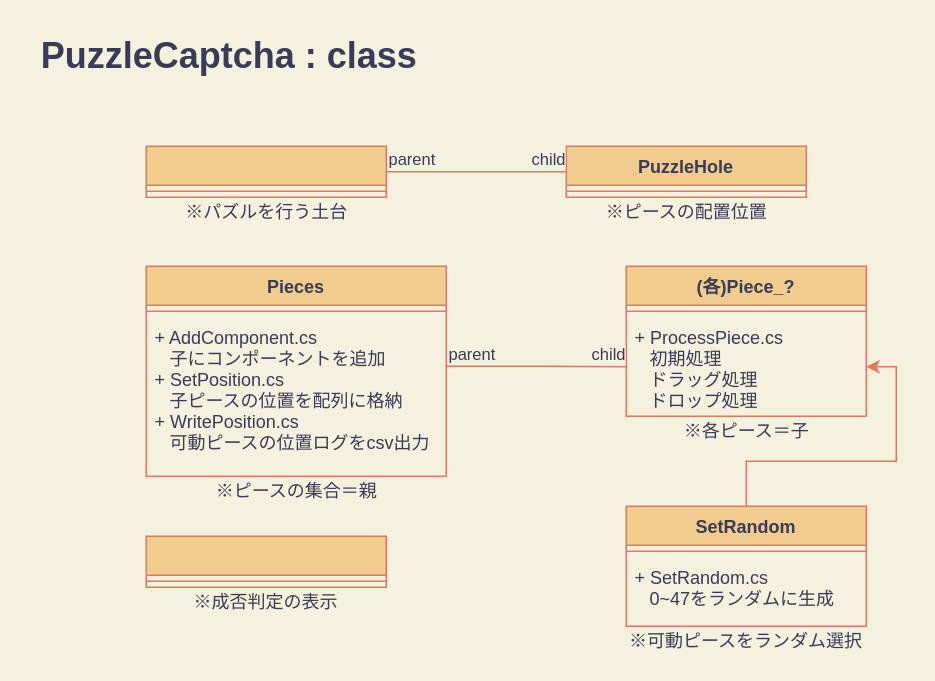
Some shapes in this 935 by 681 pixel diagram are drawn without their labels. Here are the shapes that lost their labels. From the top down, the centre of each, then its label:
At pixel 265 171: "PuzzleBack".
At pixel 265 561: "Judge".
